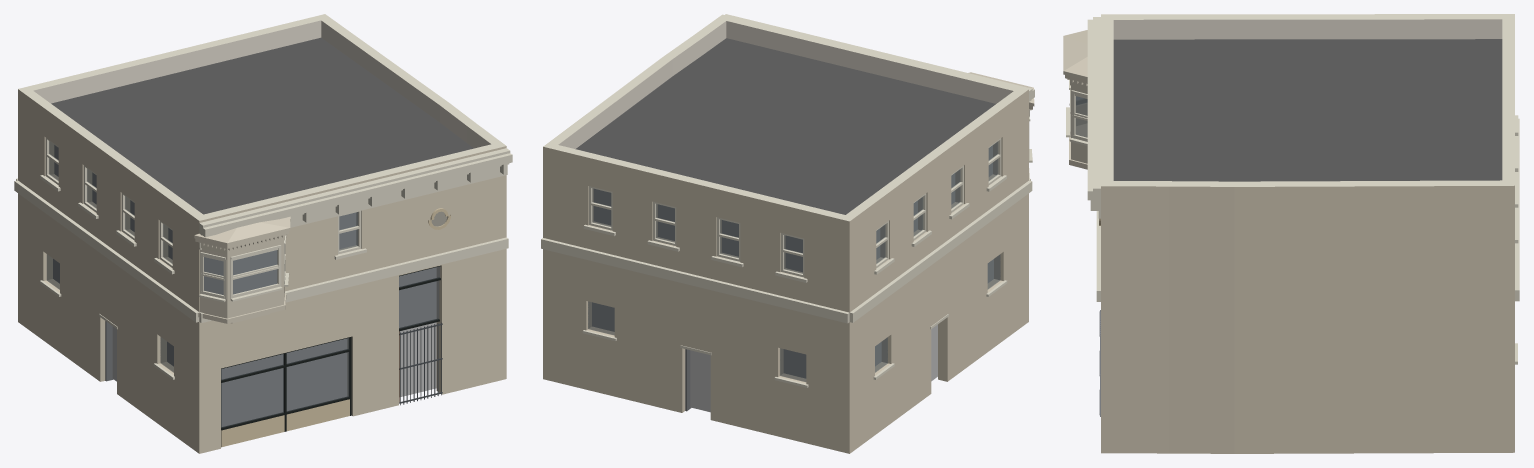
File: exterior.glb
3 views of the same model, side by side, from view 1: azimuth 30°, elevation 25°; view 2: azimuth 150°, elevation 25°; view 3: azimuth 270°, elevation 25° (orthographic). The views are drawn at different scales.
Parts seen in each view (by area): view 1: shell, roof, shadow-proxy, trim, glazing, storefront, bay-windows-hyb, bay-glazing-hyb, frames; view 2: shell, roof, trim, glazing, shadow-proxy, frames, storefront; view 3: shell, roof, trim, bay-windows-hyb, bay-glazing-hyb.
Part boxes in pixels (x1=…): shell: x1=18, y1=14, x2=506, y2=453; roof: x1=51, y1=37, x2=473, y2=214; shadow-proxy: x1=53, y1=145, x2=436, y2=426; trim: x1=14, y1=148, x2=512, y2=379; glazing: x1=47, y1=141, x2=439, y2=427; storefront: x1=99, y1=265, x2=442, y2=447; bay-windows-hyb: x1=194, y1=216, x2=290, y2=323; bay-glazing-hyb: x1=199, y1=235, x2=289, y2=302; frames: x1=45, y1=138, x2=361, y2=267; shell: x1=543, y1=14, x2=1028, y2=453; roof: x1=575, y1=38, x2=995, y2=214; trim: x1=541, y1=14, x2=1034, y2=387; glazing: x1=588, y1=142, x2=1000, y2=381; shadow-proxy: x1=592, y1=145, x2=993, y2=412; frames: x1=589, y1=138, x2=1001, y2=277; storefront: x1=680, y1=314, x2=948, y2=411; shell: x1=1101, y1=14, x2=1514, y2=453; roof: x1=1113, y1=39, x2=1502, y2=181; trim: x1=1087, y1=17, x2=1519, y2=364; bay-windows-hyb: x1=1063, y1=30, x2=1087, y2=169; bay-glazing-hyb: x1=1066, y1=80, x2=1087, y2=145.
Bounding box in the file's own units: 11.06 × 7.85 × 12.15.
